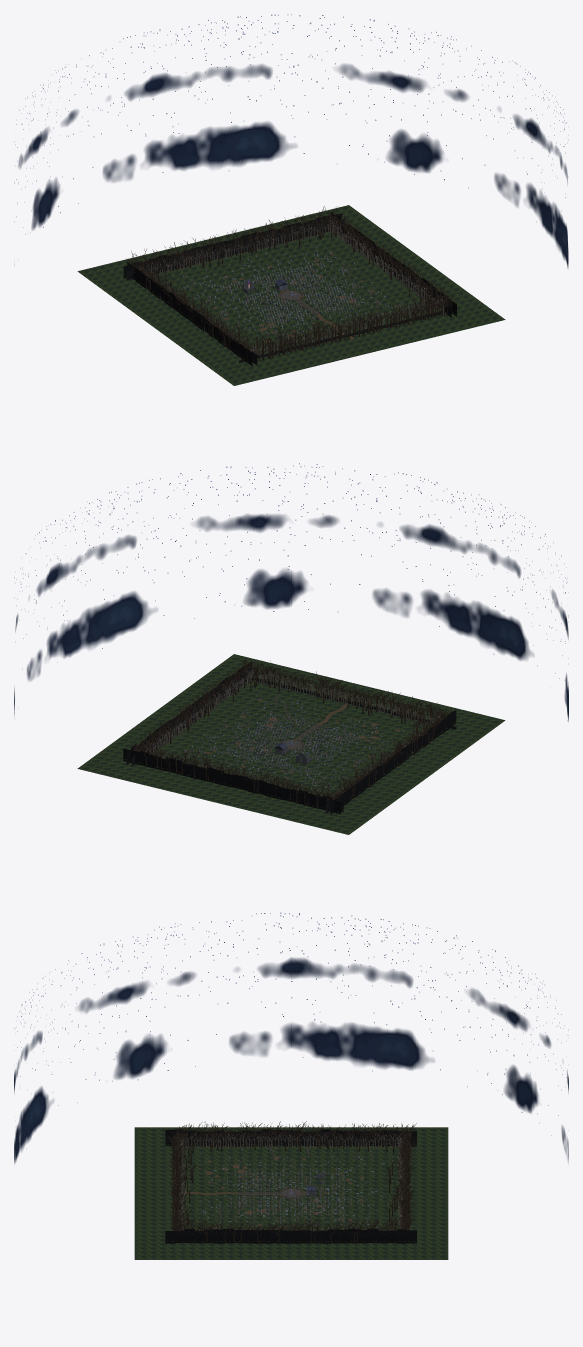
Rendered from graveyard.glb.
3 views of the same model, one above another, from view 1: azimuth 30°, elevation 25°; view 2: azimuth 150°, elevation 25°; view 3: azimuth 270°, elevation 25° (orthographic).
Visible parts, largest first — view 1: environment-grass, environment-sky, environment-bark, environment-thicket, environment-deadwood, environment-dirt; view 2: environment-grass, environment-sky, environment-bark, environment-thicket, environment-deadwood, environment-dirt; view 3: environment-grass, environment-sky, environment-bark, environment-thicket, environment-deadwood, environment-dirt.
Boxes of the visible parts, x1,y1,x2,y2 form: environment-grass: (77, 205, 505, 385); environment-sky: (14, 14, 568, 267); environment-bark: (126, 206, 456, 362); environment-thicket: (123, 212, 457, 366); environment-deadwood: (133, 217, 445, 355); environment-dirt: (213, 253, 400, 342); environment-grass: (77, 654, 505, 834); environment-sky: (14, 463, 568, 721); environment-bark: (130, 659, 452, 812); environment-thicket: (123, 661, 456, 814); environment-deadwood: (136, 667, 446, 800); environment-dirt: (184, 699, 400, 778); environment-grass: (134, 1127, 448, 1259); environment-sky: (14, 912, 568, 1163); environment-bark: (167, 1121, 416, 1243); environment-thicket: (165, 1129, 416, 1243); environment-deadwood: (177, 1132, 409, 1241); environment-dirt: (171, 1156, 364, 1228).
Bounding box in the file's own units: 460 × 170 × 460.
Materials: 12 (12 with a texture image).
